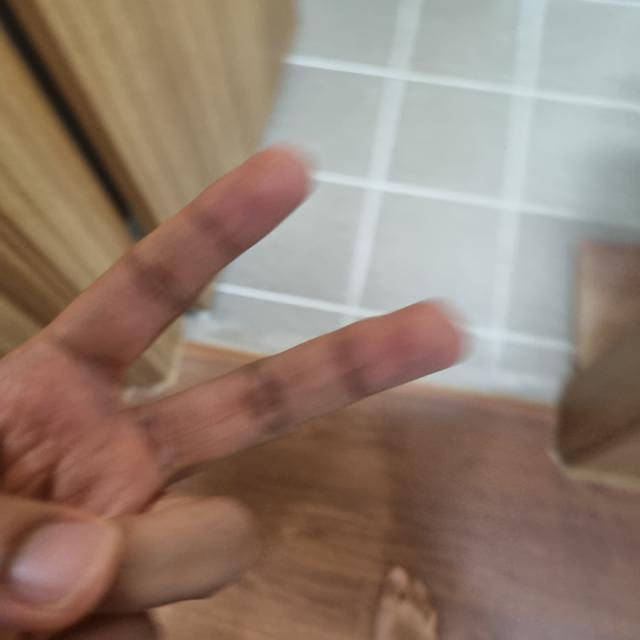Scissors: (0, 152, 639, 639)
